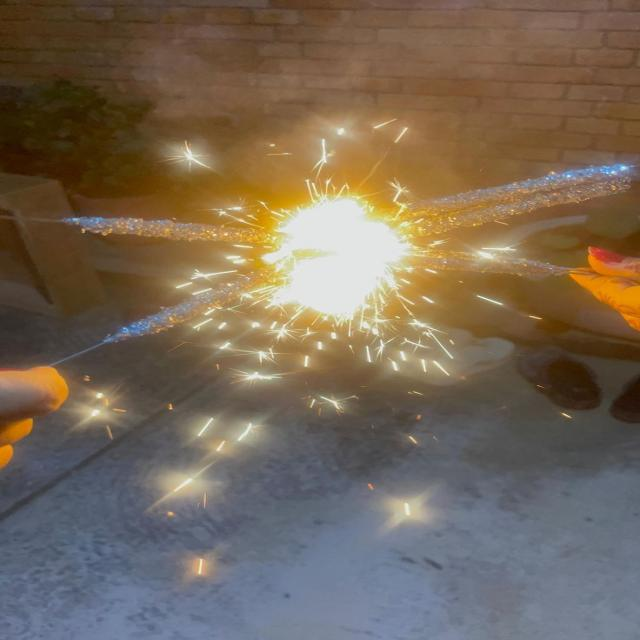fire: (260, 196, 400, 321)
